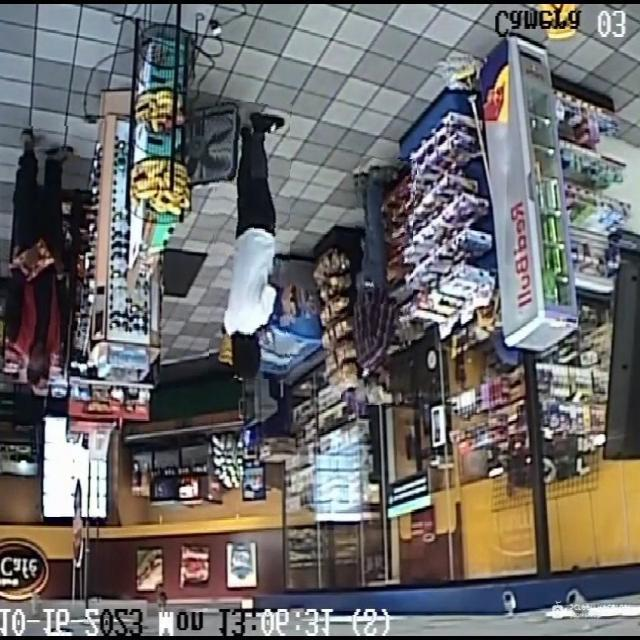Normal: (211, 102, 290, 379), (3, 126, 80, 394), (346, 158, 414, 405)
